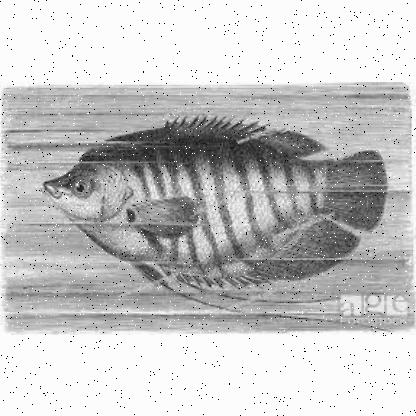gurame: (41, 116, 384, 280)
